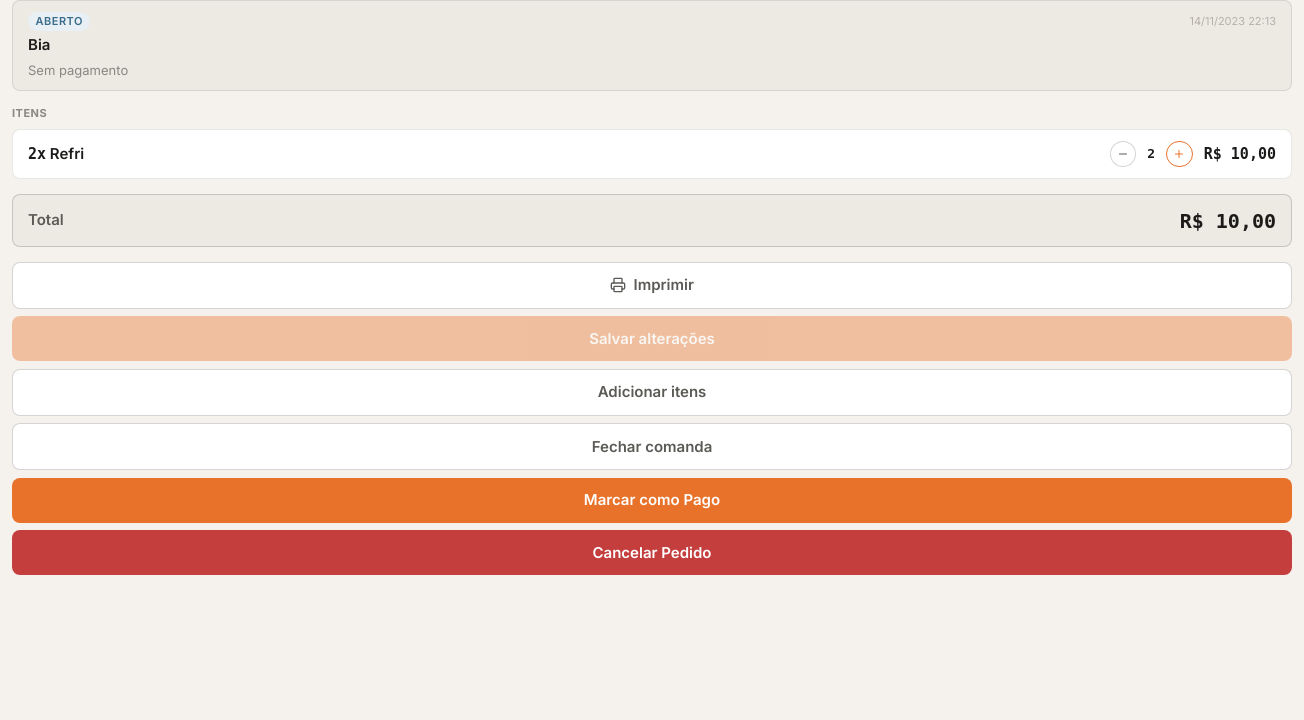
OrderDetail › diminui a quantidade sem pedir confirmação quando ainda resta item
Click the button named "Diminuir" at (1123, 154), box [1110,141,1136,167]
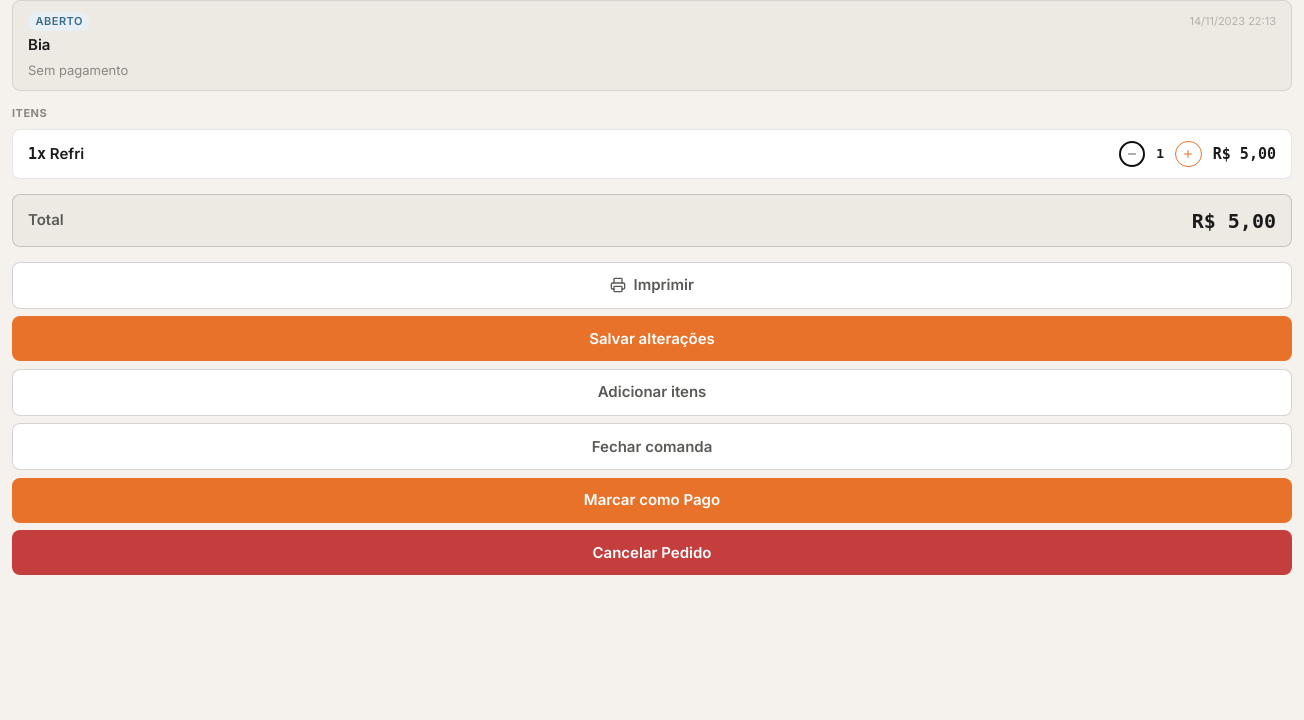
Expected: the button "Salvar alterações" is enabled, [12,316,1292,361]
